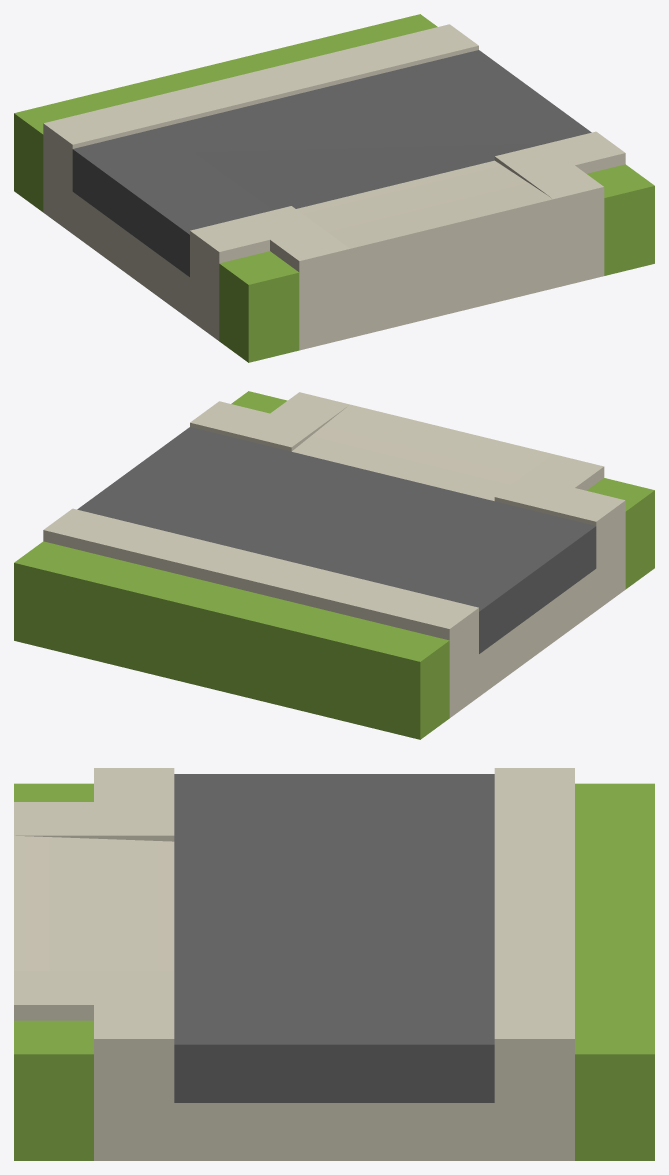
File: tile074.dae
3 renders of one model, top to bottom at view 1: azimuth 30°, elevation 25°; view 2: azimuth 150°, elevation 25°; view 3: azimuth 270°, elevation 25°, orthographic. The views are drawn at different scales.
Visible parts, largest first — view 1: tile074; view 2: tile074; view 3: tile074.
Boxes of the visible parts, x1=… form: tile074: x1=14, y1=14, x2=654, y2=362; tile074: x1=14, y1=391, x2=654, y2=739; tile074: x1=14, y1=768, x2=654, y2=1160.
Bounding box in the file's own units: 1 × 0.21 × 1.
